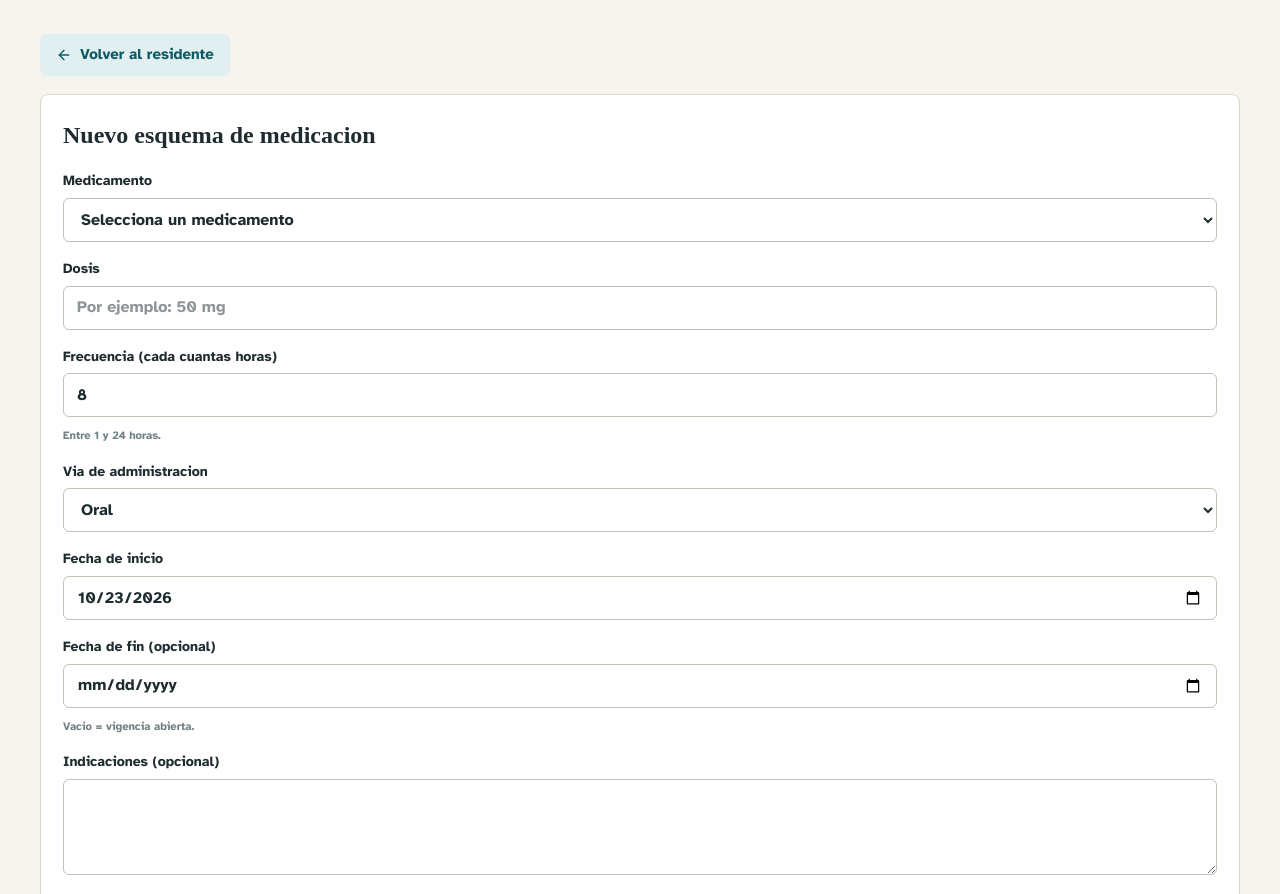
Scenario: FormularioEsquema › exige al menos un horario
In the field labelled "Dosis": (640, 308) [63,286,1217,330], type "50 mg"
(page scrolled)
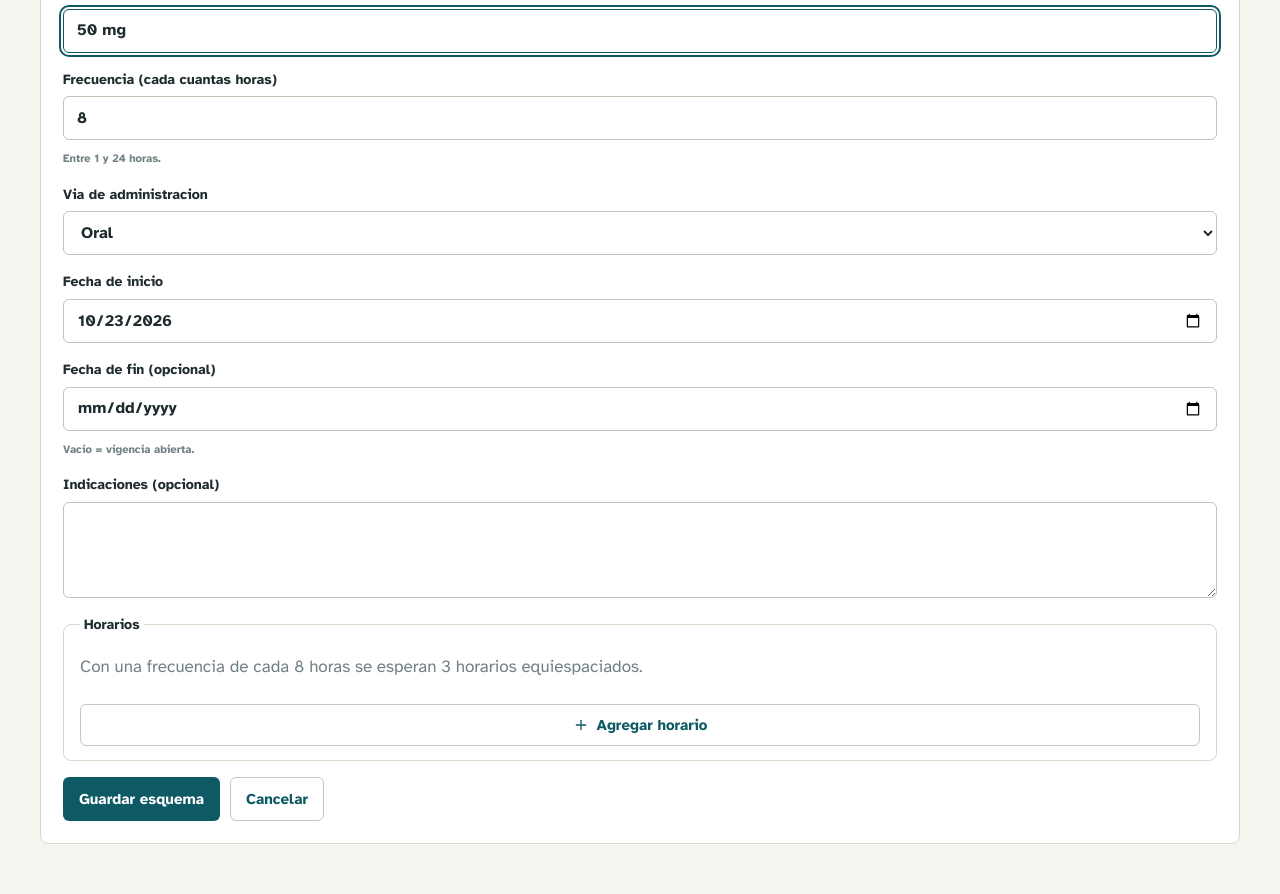
Click the button "Guardar esquema": (142, 799) [63,777,220,821]
(page scrolled)
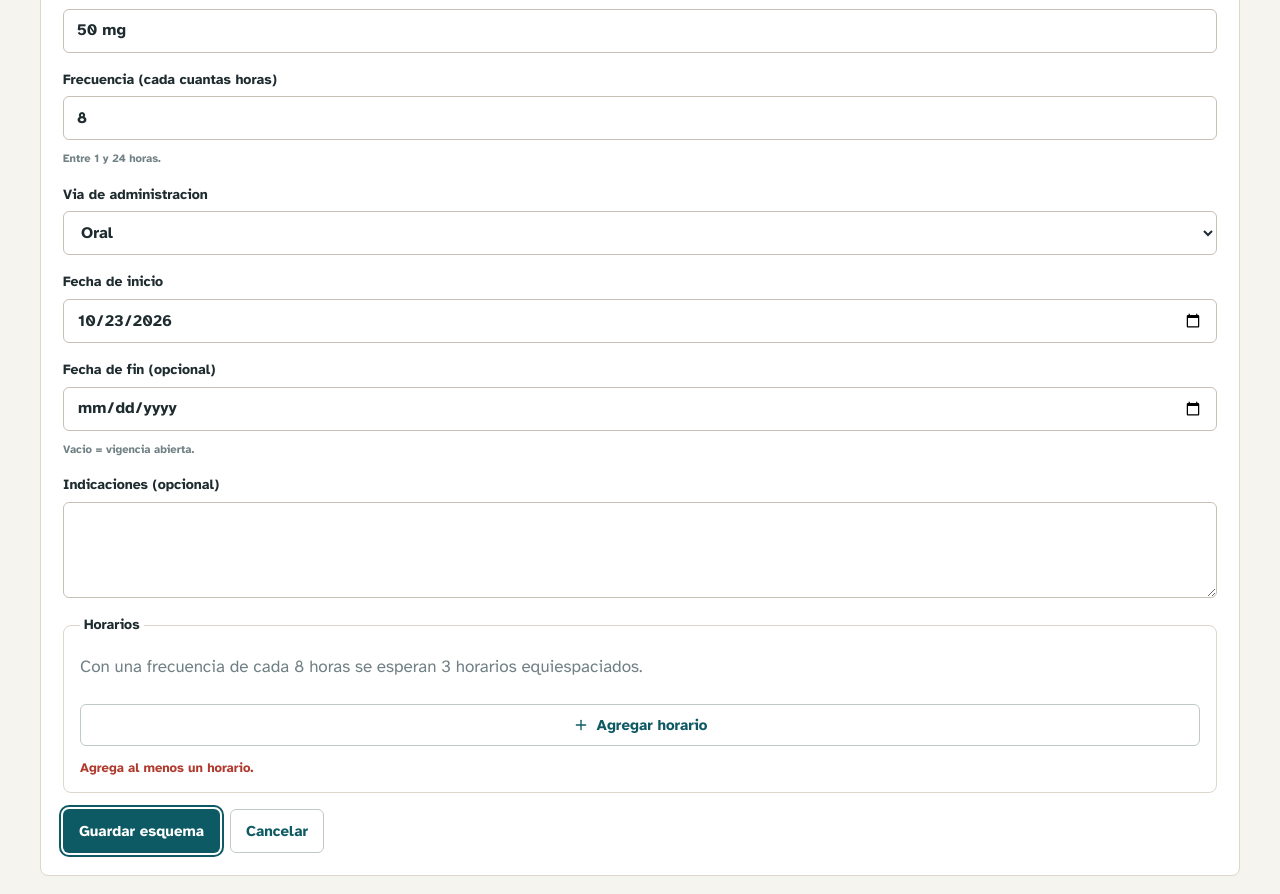
Now the text "Agrega al menos un horario." is shown, box [80,760,254,776]
